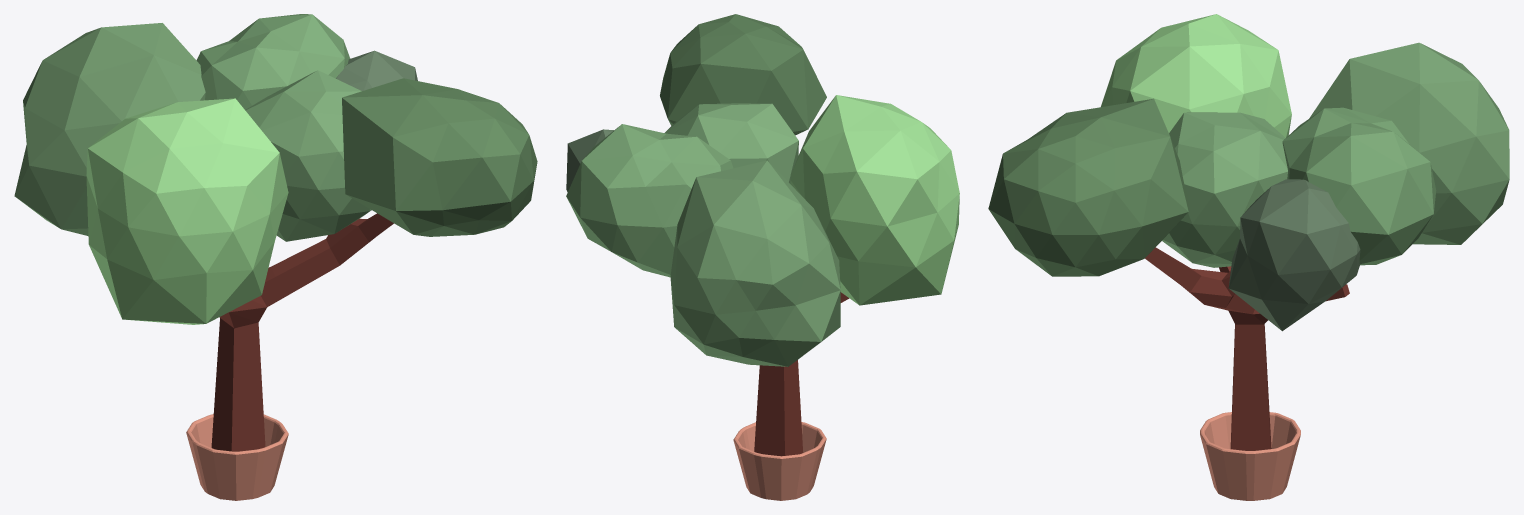
File: tree0.glb
3 views of the same model, side by side, from view 1: azimuth 30°, elevation 25°; view 2: azimuth 150°, elevation 25°; view 3: azimuth 270°, elevation 25° (orthographic). The views are drawn at different scales.
Parts seen in each view (by area): view 1: Icosphere.001, Icosphere, Icosphere.002, Icosphere.003, tronc, Icosphere.004, pot, Icosphere.005; view 2: Icosphere.002, Icosphere.001, Icosphere.004, Icosphere, Icosphere.003, pot, tronc, Icosphere.005; view 3: Icosphere, Icosphere.002, Icosphere.004, Icosphere.001, Icosphere.005, Icosphere.003, tronc, pot.
Part boxes in pixels (box(x1,y1,x2,y2)): Icosphere.001: box(86, 98, 288, 324); Icosphere: box(342, 78, 537, 236); Icosphere.002: box(14, 23, 205, 235); Icosphere.003: box(245, 70, 370, 241); tronc: box(211, 213, 393, 451); Icosphere.004: box(196, 14, 350, 109); pot: box(186, 414, 288, 500); Icosphere.005: box(336, 50, 417, 210); Icosphere.002: box(670, 160, 840, 366); Icosphere.001: box(790, 95, 959, 305); Icosphere.004: box(566, 124, 733, 277); Icosphere: box(660, 14, 826, 135); Icosphere.003: box(664, 103, 798, 183); pot: box(733, 422, 826, 500); tronc: box(754, 292, 849, 456); Icosphere.005: box(566, 129, 613, 192); Icosphere: box(988, 98, 1188, 276); Icosphere.002: box(1309, 42, 1509, 244); Icosphere.004: box(1282, 107, 1436, 265); Icosphere.001: box(1101, 14, 1291, 137); Icosphere.005: box(1228, 179, 1360, 331); Icosphere.003: box(1162, 112, 1287, 267); tronc: box(1145, 247, 1349, 450); pot: box(1200, 412, 1300, 500).
Bounding box in the file's own units: 4.25 × 4.62 × 5.16.
